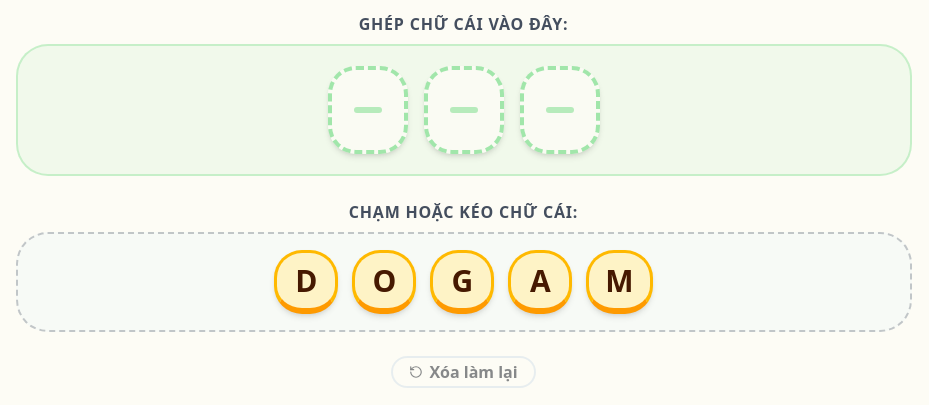
Test: DragDropBoard Component › places bank letters sequentially into slots when tapped (tap-to-place)
This screenshot has width=929, height=405.
Click the button named "Chữ cái D": (306, 282) [274, 250, 338, 314]
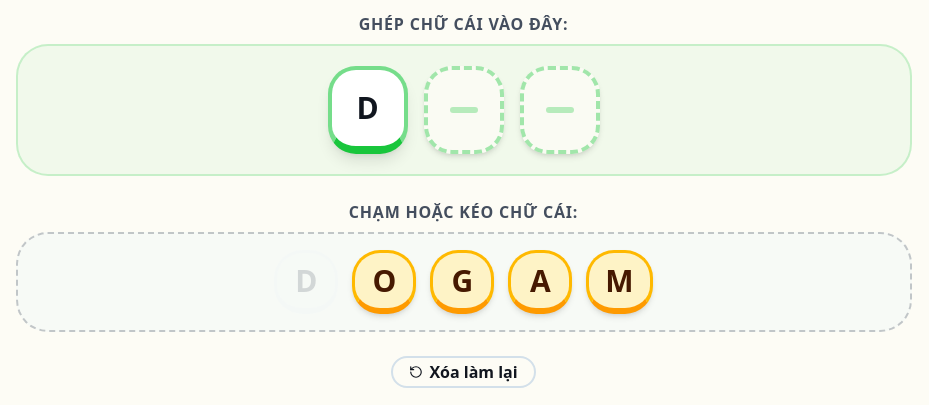
Now the button named "Ô chữ cái 1: D" is shown, box [328, 66, 408, 154]
Click the button named "Chữ cái O": (384, 282) [352, 250, 416, 314]
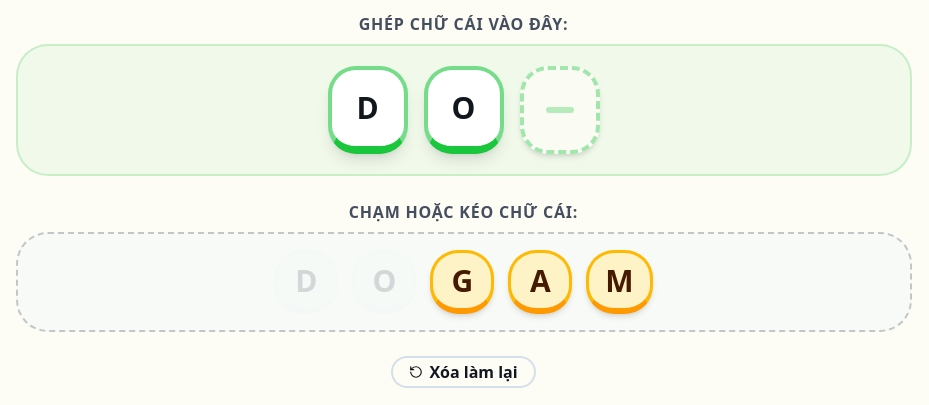
Now the button named "Ô chữ cái 2: O" is shown, box [424, 66, 504, 154]
